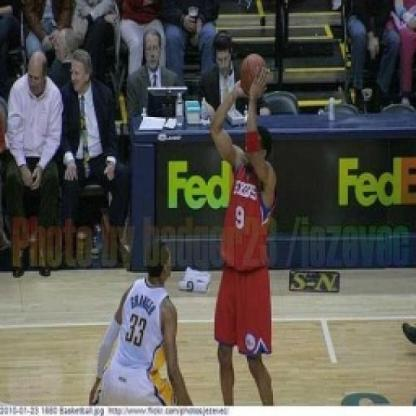basketball: (235, 52, 269, 92)
